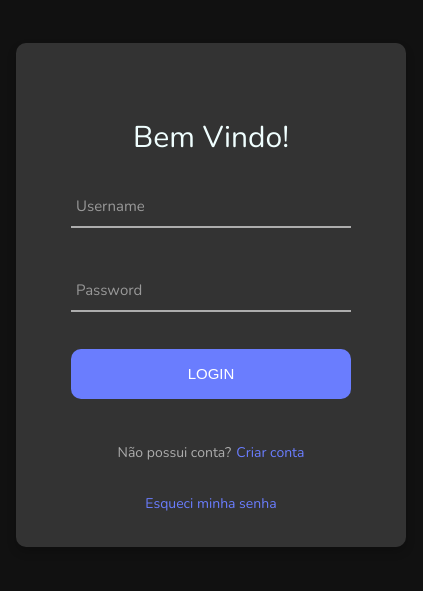
Test: Componente App: testes de integração › Na pagina de login › Clicar no link 'Criar conta' redireciona para componente Register
Click the link "Criar conta" at (270, 452), box [236, 442, 304, 463]
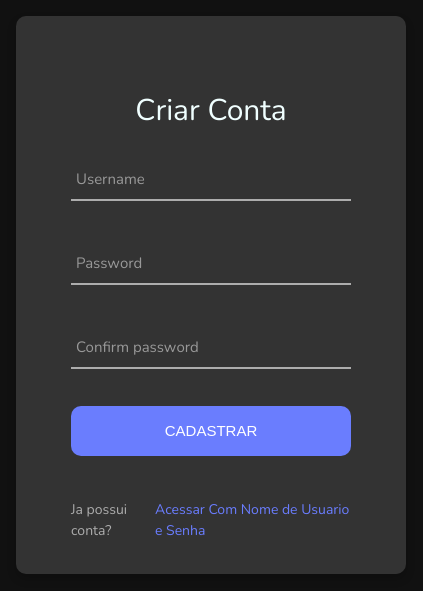
Result: the form with test id "form-register" is shown at [71, 93, 351, 541]
